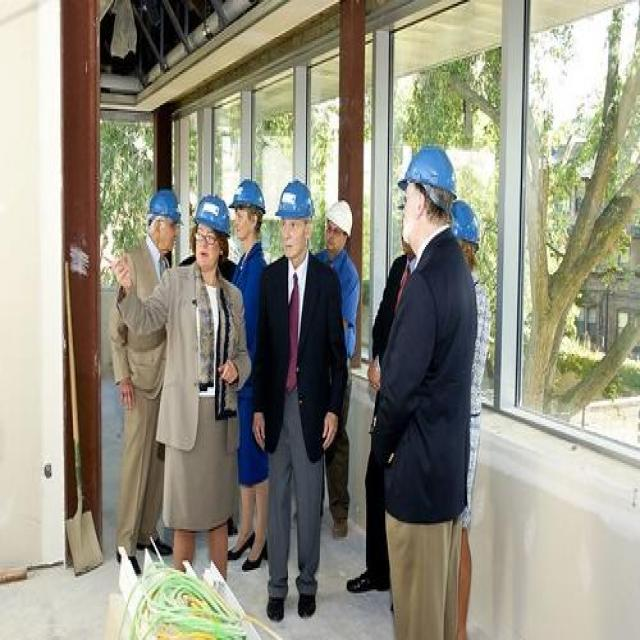Safety-Helmet: (395, 140, 461, 198), (190, 189, 232, 235), (274, 175, 315, 222), (228, 175, 267, 214), (143, 185, 184, 222), (325, 197, 355, 236)
